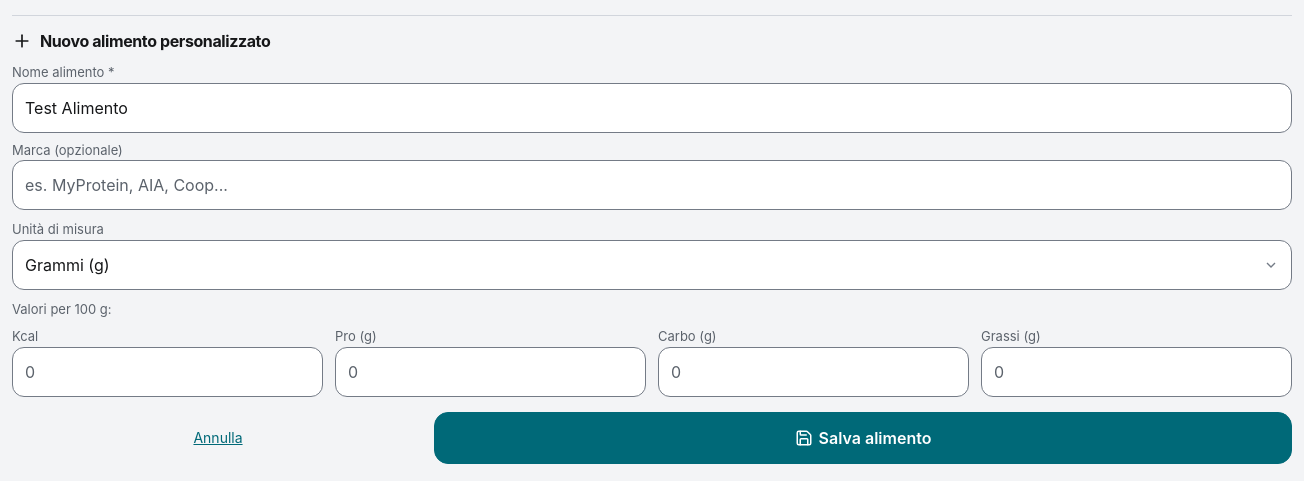
Worker M2: Exercise Library UI & Food Form Real-Time Calorie Calculation › CustomFoodForm Real-Time Automatic Calorie Calculation (R2) › R2 Acceptance Criterion: typing 10g Carbo, 10g Pro, 10g Grassi automatically sets kcal to 170
Type "10" into the number field labelled "Carbo (g)" at coordinates (814, 372), box [658, 346, 969, 396]
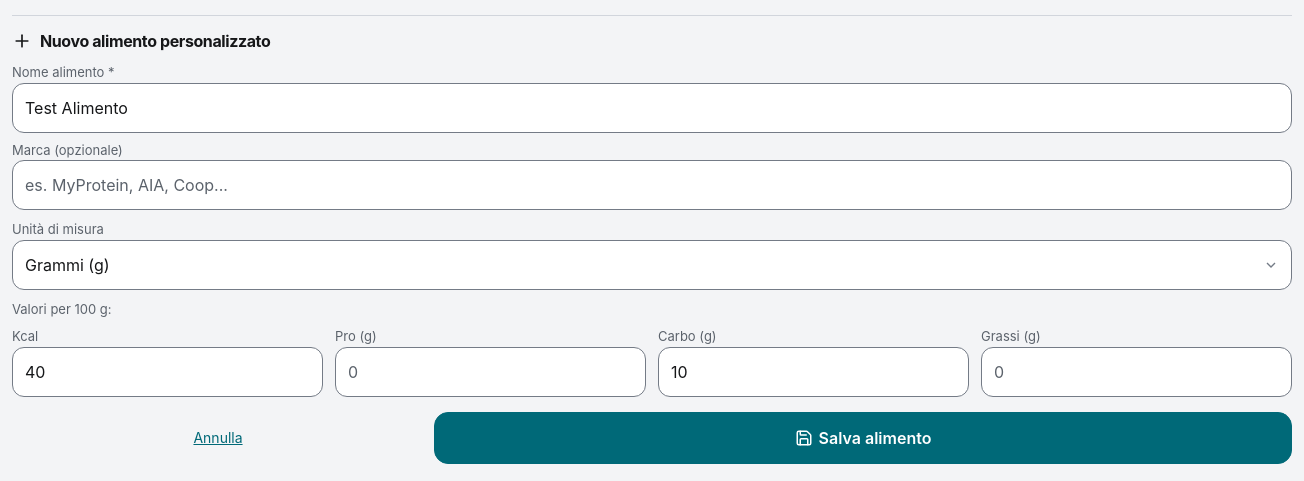
Expected: the number field labelled "Kcal" holds "40", [12, 346, 323, 396]
Type "10" into the number field labelled "Pro (g)" at coordinates (490, 372), box [335, 346, 646, 396]
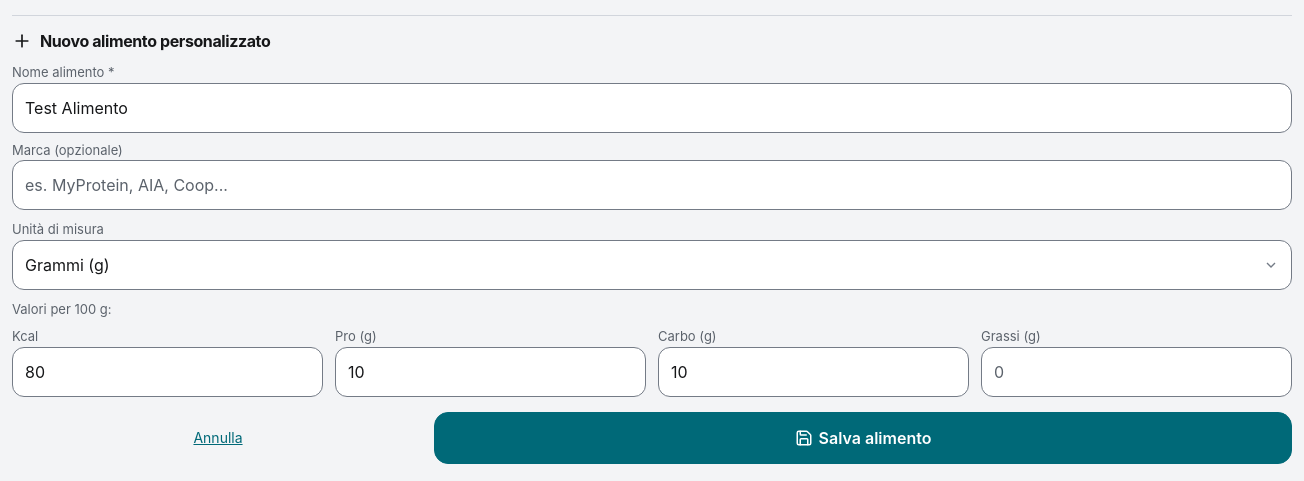
Expected: the number field labelled "Kcal" holds "80", [12, 346, 323, 396]
Type "10" into the number field labelled "Grassi (g)" at coordinates (1136, 372), box [981, 346, 1292, 396]
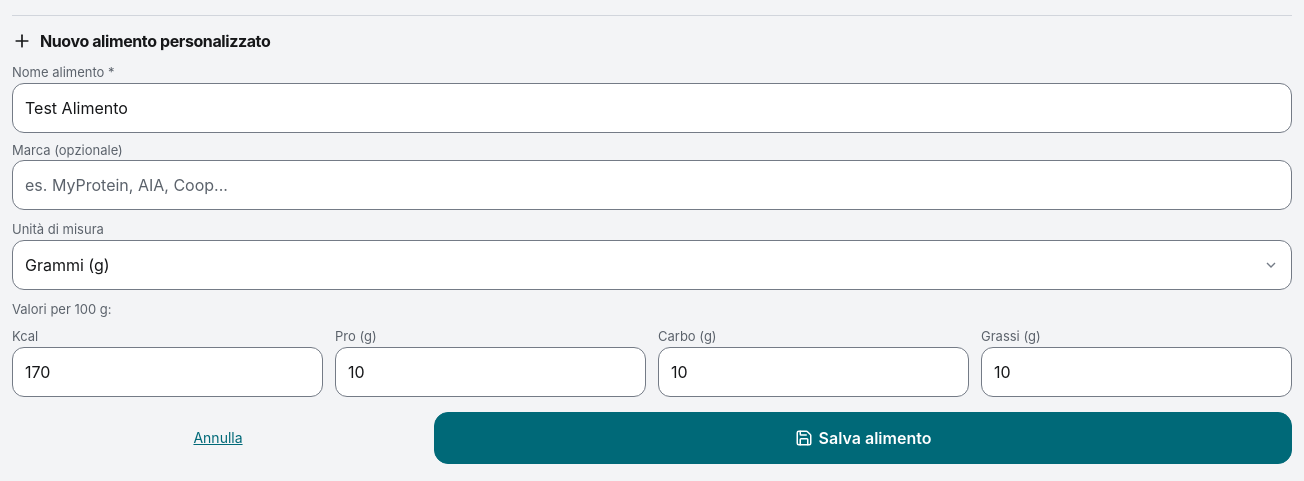
Expected: the number field labelled "Kcal" holds "170", [12, 346, 323, 396]
